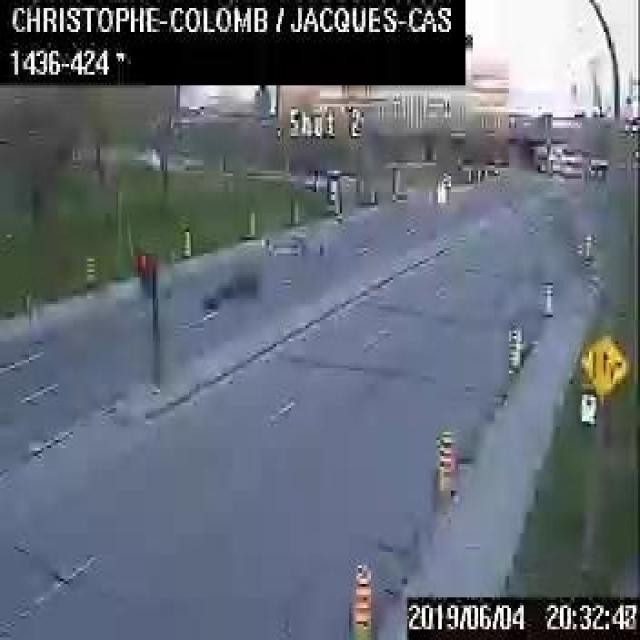construction: (349, 560, 372, 638), (433, 425, 453, 504), (506, 315, 519, 371), (542, 277, 552, 316), (85, 253, 94, 291), (180, 224, 190, 256)
vehicle: (200, 267, 260, 317), (267, 232, 322, 264)
